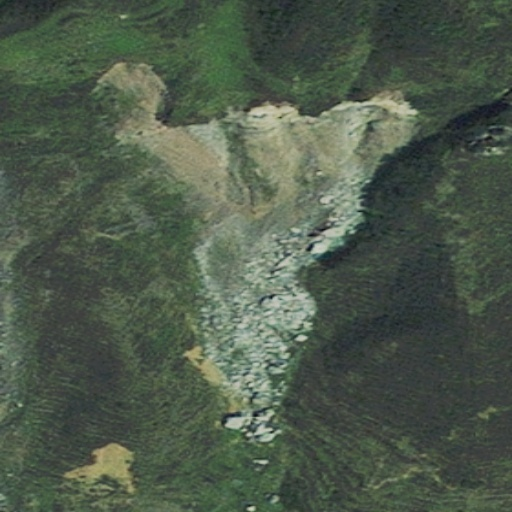landslide: (105, 64, 416, 437)
